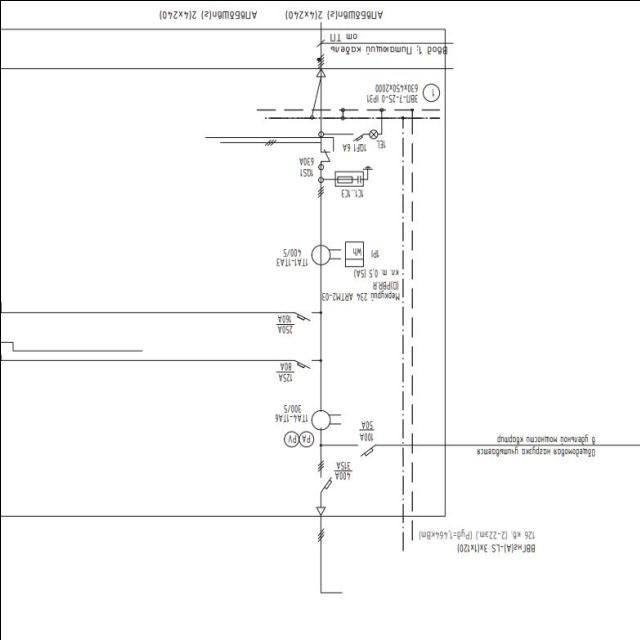-: (321, 266, 402, 302), (364, 80, 418, 102), (332, 458, 354, 481), (275, 312, 294, 334), (356, 419, 374, 441), (275, 362, 293, 382), (294, 154, 316, 166), (282, 402, 302, 414), (279, 246, 301, 256), (338, 140, 351, 153)
HL: (368, 128, 378, 138)
PA: (298, 430, 314, 448)
PV: (282, 429, 298, 448)
QF: (316, 458, 332, 492), (356, 441, 376, 457), (294, 308, 314, 322), (295, 357, 315, 370), (349, 130, 365, 142)
TT: (308, 408, 342, 432), (308, 243, 342, 267)
WH: (343, 240, 365, 268)
switch: (319, 146, 333, 162)
